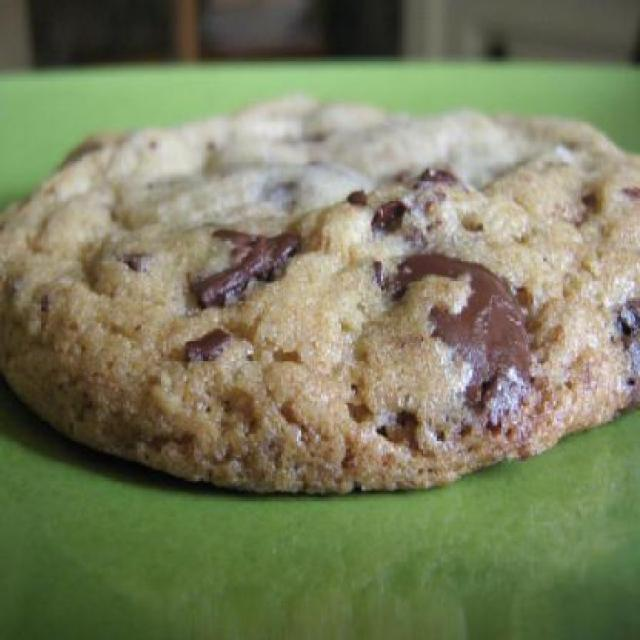Cookie: (0, 96, 640, 502)
